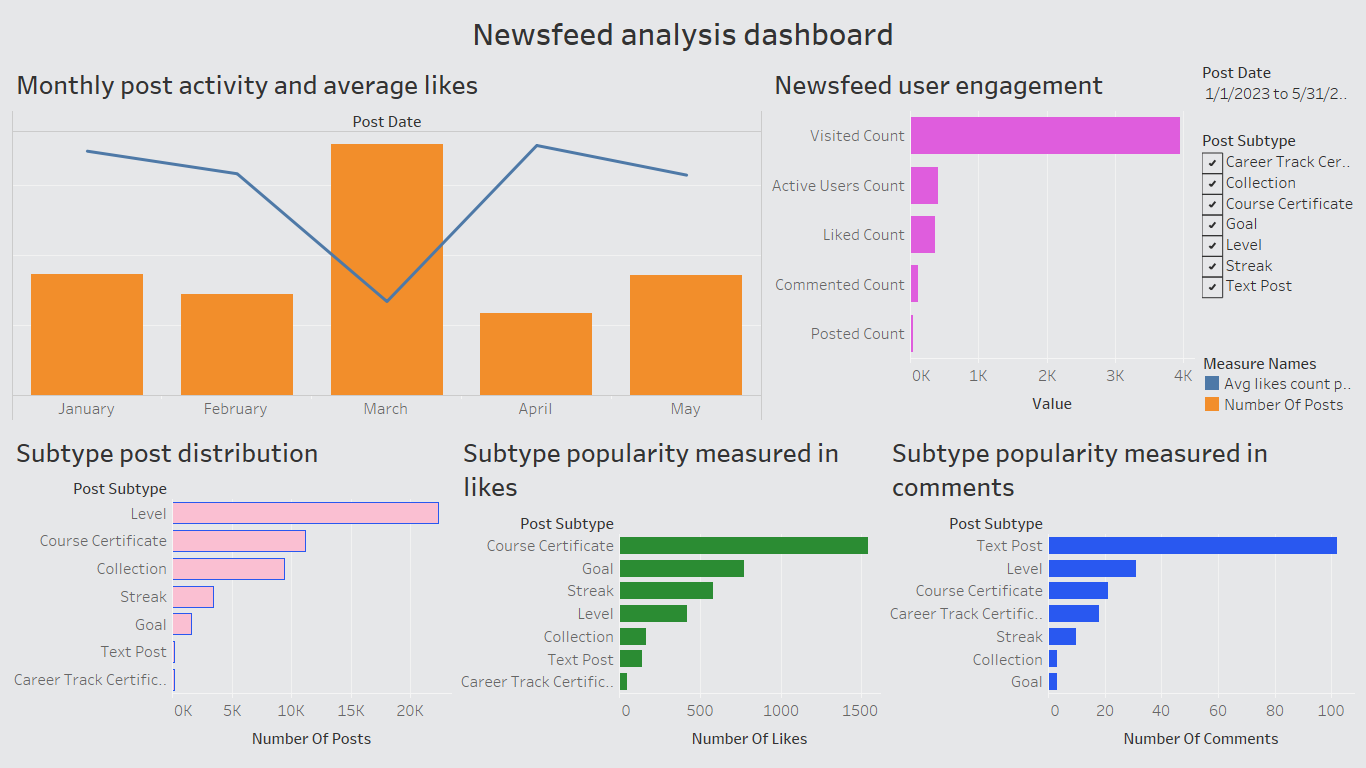

The dashboard page shown, as its layout file describes it:
{"tool":"tableau","page":{"name":"Newsfeed analysis dashboard","canvas":[1366,768],"ordinal":0},"visuals":[{"type":"title","box":[8,8,1350,49]},{"type":"worksheet","title":"Monthly post activity and average likes","mark":"Bar","rows":["number_of_posts","Calculation_205476769312583680"],"cols":["post_date"],"box":[8,57,758,368.3]},{"type":"worksheet","title":"Newsfeed user engagement","mark":"Automatic","box":[766,57,432,368.3]},{"type":"filter","title":"Monthly post activity and average likes","param":"[federated.1u2n35i1xwz2qw16idjyf1kn14rl].[none:post_date:qk]","box":[1198,57,160,68]},{"type":"filter","title":"Monthly post activity and average likes","param":"[federated.1u2n35i1xwz2qw16idjyf1kn14rl].[none:post_subtype:nk]","box":[1198,125,160,222]},{"type":"legend","title":"Monthly post activity and average likes","param":"[federated.1u2n35i1xwz2qw16idjyf1kn14rl].[:Measure Names]","box":[1198,347,160,72]},{"type":"worksheet","title":"Subtype post distribution","mark":"Bar","rows":["post_subtype"],"cols":["number_of_posts"],"box":[8,425.3,447,334.7]},{"type":"worksheet","title":"Subtype popularity measured in likes","mark":"Bar","rows":["post_subtype"],"cols":["number_of_likes"],"box":[455,425.3,429,334.7]},{"type":"worksheet","title":"Subtype popularity measured in comments","mark":"Automatic","rows":["post_subtype"],"cols":["number_of_comments"],"box":[884,425.3,474,334.7]}]}

Visuals, with their boxes in screenshot pixels (x1, y1, x2, y2), scaled from the page's 1366x768 canvas onto the 1366x768 screenshot:
title: [left=8, top=8, right=1358, bottom=57]
"Monthly post activity and average likes" worksheet (Bar marks): [left=8, top=57, right=766, bottom=425]
"Newsfeed user engagement" worksheet: [left=766, top=57, right=1198, bottom=425]
"Monthly post activity and average likes" filter: [left=1198, top=57, right=1358, bottom=125]
"Monthly post activity and average likes" filter: [left=1198, top=125, right=1358, bottom=347]
"Monthly post activity and average likes" legend: [left=1198, top=347, right=1358, bottom=419]
"Subtype post distribution" worksheet (Bar marks): [left=8, top=425, right=455, bottom=760]
"Subtype popularity measured in likes" worksheet (Bar marks): [left=455, top=425, right=884, bottom=760]
"Subtype popularity measured in comments" worksheet: [left=884, top=425, right=1358, bottom=760]
